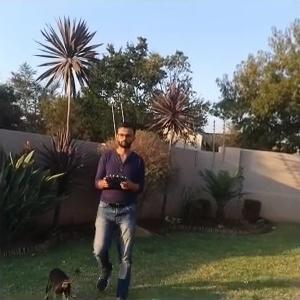follow: (87, 118, 148, 298)
null: (44, 263, 83, 299)
